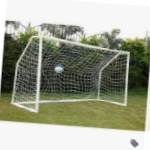goals: (9, 34, 131, 115)
